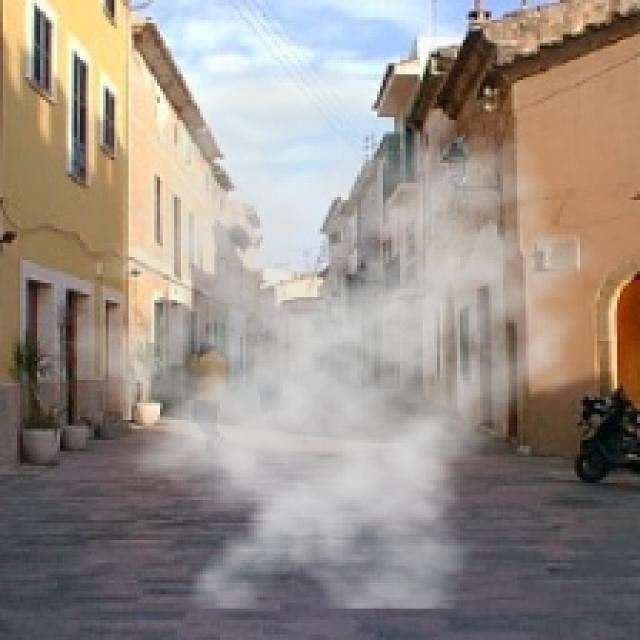Smoke: (37, 54, 600, 609)
